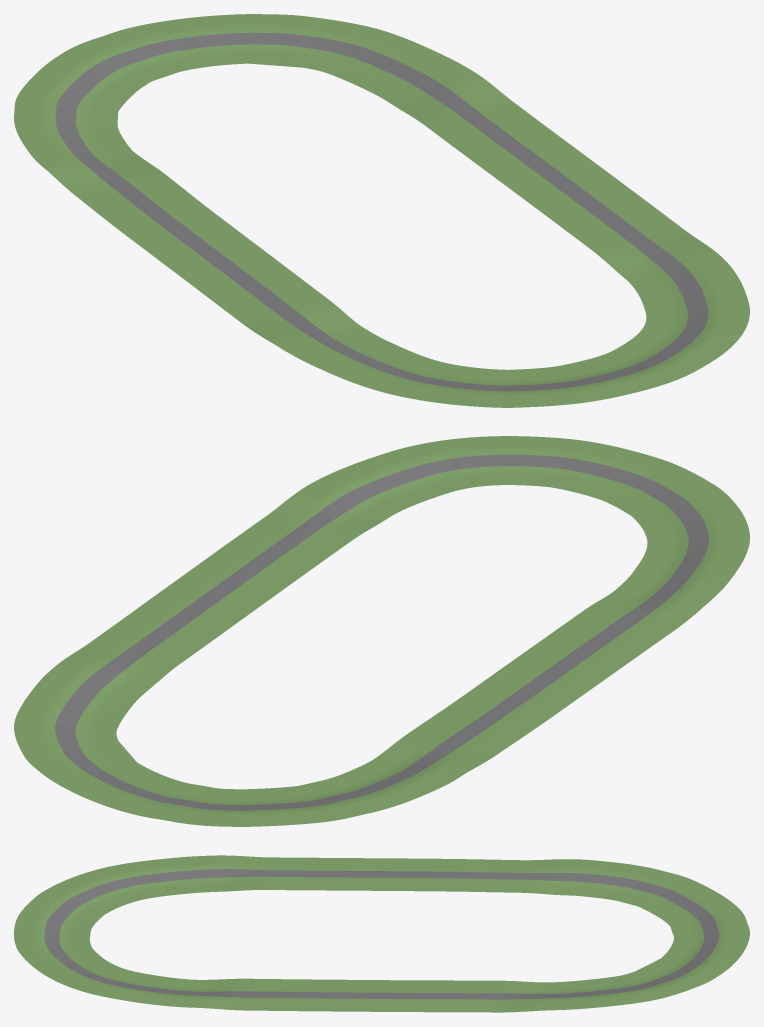
The model's file is road_mesh.glb.
3 renders of one model, top to bottom at view 1: azimuth 30°, elevation 25°; view 2: azimuth 150°, elevation 25°; view 3: azimuth 270°, elevation 25°, orthographic. The views are drawn at different scales.
Visible parts, largest first — view 1: road_06, road_05, road_07, road_03, road_04, road_09, road_08, road_02, road_00, road_01; view 2: road_02, road_01, road_03, road_05, road_04, road_09, road_08, road_00, road_06, road_07; view 3: road_00, road_07, road_08, road_01, road_09, road_04, road_06, road_03, road_02, road_05.
Part boxes in pixels (box(x1,y1,x2,y2)): road_06: box(103, 14, 368, 75); road_05: box(319, 27, 524, 132); road_07: box(14, 36, 166, 144); road_03: box(544, 192, 738, 294); road_04: box(435, 111, 633, 213); road_09: box(127, 215, 324, 317); road_08: box(24, 139, 216, 235); road_02: box(598, 278, 749, 385); road_00: box(235, 297, 443, 394); road_01: box(395, 356, 658, 407); road_02: box(343, 436, 600, 505); road_01: box(560, 443, 749, 542); road_03: box(213, 468, 413, 576); road_05: box(14, 634, 189, 733); road_04: box(101, 554, 300, 656); road_09: box(466, 614, 665, 715); road_08: box(352, 694, 552, 794); road_00: box(579, 536, 749, 635); road_06: box(14, 728, 201, 820); road_07: box(165, 770, 423, 826); road_00: box(99, 855, 278, 900); road_07: box(593, 862, 746, 931); road_08: box(440, 859, 612, 897); road_01: box(14, 869, 138, 944); road_09: box(277, 857, 441, 891); road_04: box(321, 979, 484, 1012); road_06: box(625, 923, 749, 997); road_03: box(149, 977, 321, 1011); road_02: box(15, 942, 169, 1003); road_05: box(484, 974, 663, 1012).
Size of the model in its own units: 360 by 6.08 by 724.
